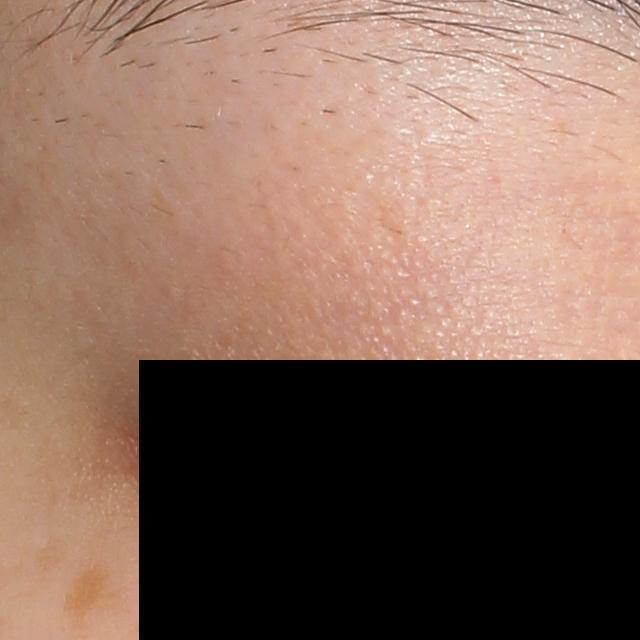melasma: (62, 560, 123, 617), (33, 534, 78, 579)
